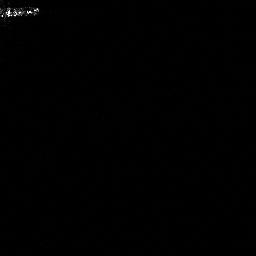ship: (1, 6, 39, 17)
